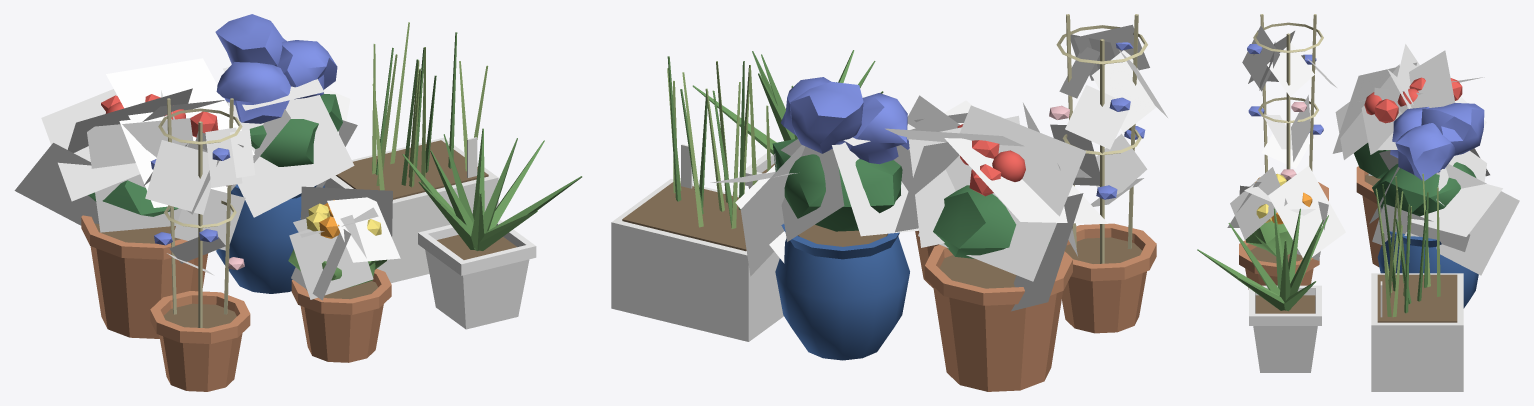
File: plant_pots.glb
3 renders of one model, left to right at view 1: azimuth 30°, elevation 25°; view 2: azimuth 150°, elevation 25°; view 3: azimuth 270°, elevation 25°, orthographic. The views are drawn at different scales.
Visible parts, largest first — view 1: plant_pots_body; view 2: plant_pots_body; view 3: plant_pots_body.
Part boxes in pixels (box(x1,y1,x2,y2)): plant_pots_body: box(14, 14, 582, 391); plant_pots_body: box(611, 14, 1167, 391); plant_pots_body: box(1197, 14, 1519, 391).
Size of what is drawn, in the model's own units: 1.36 by 0.8202 by 1.05.
